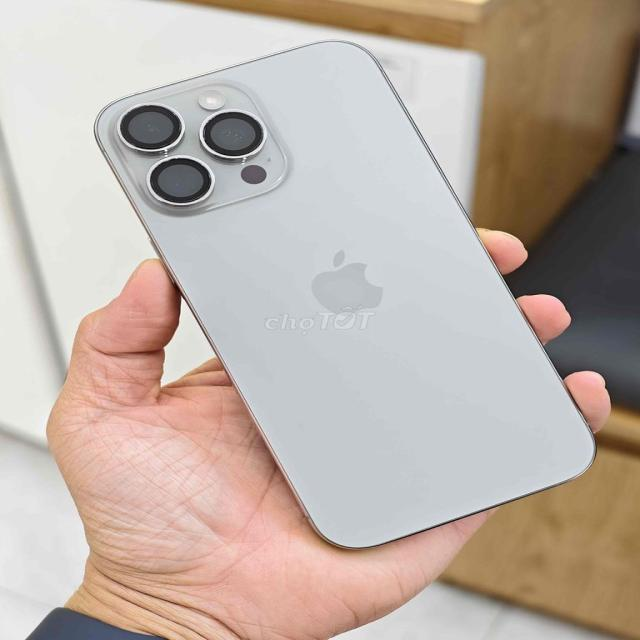gen_16: (95, 41, 595, 548)
